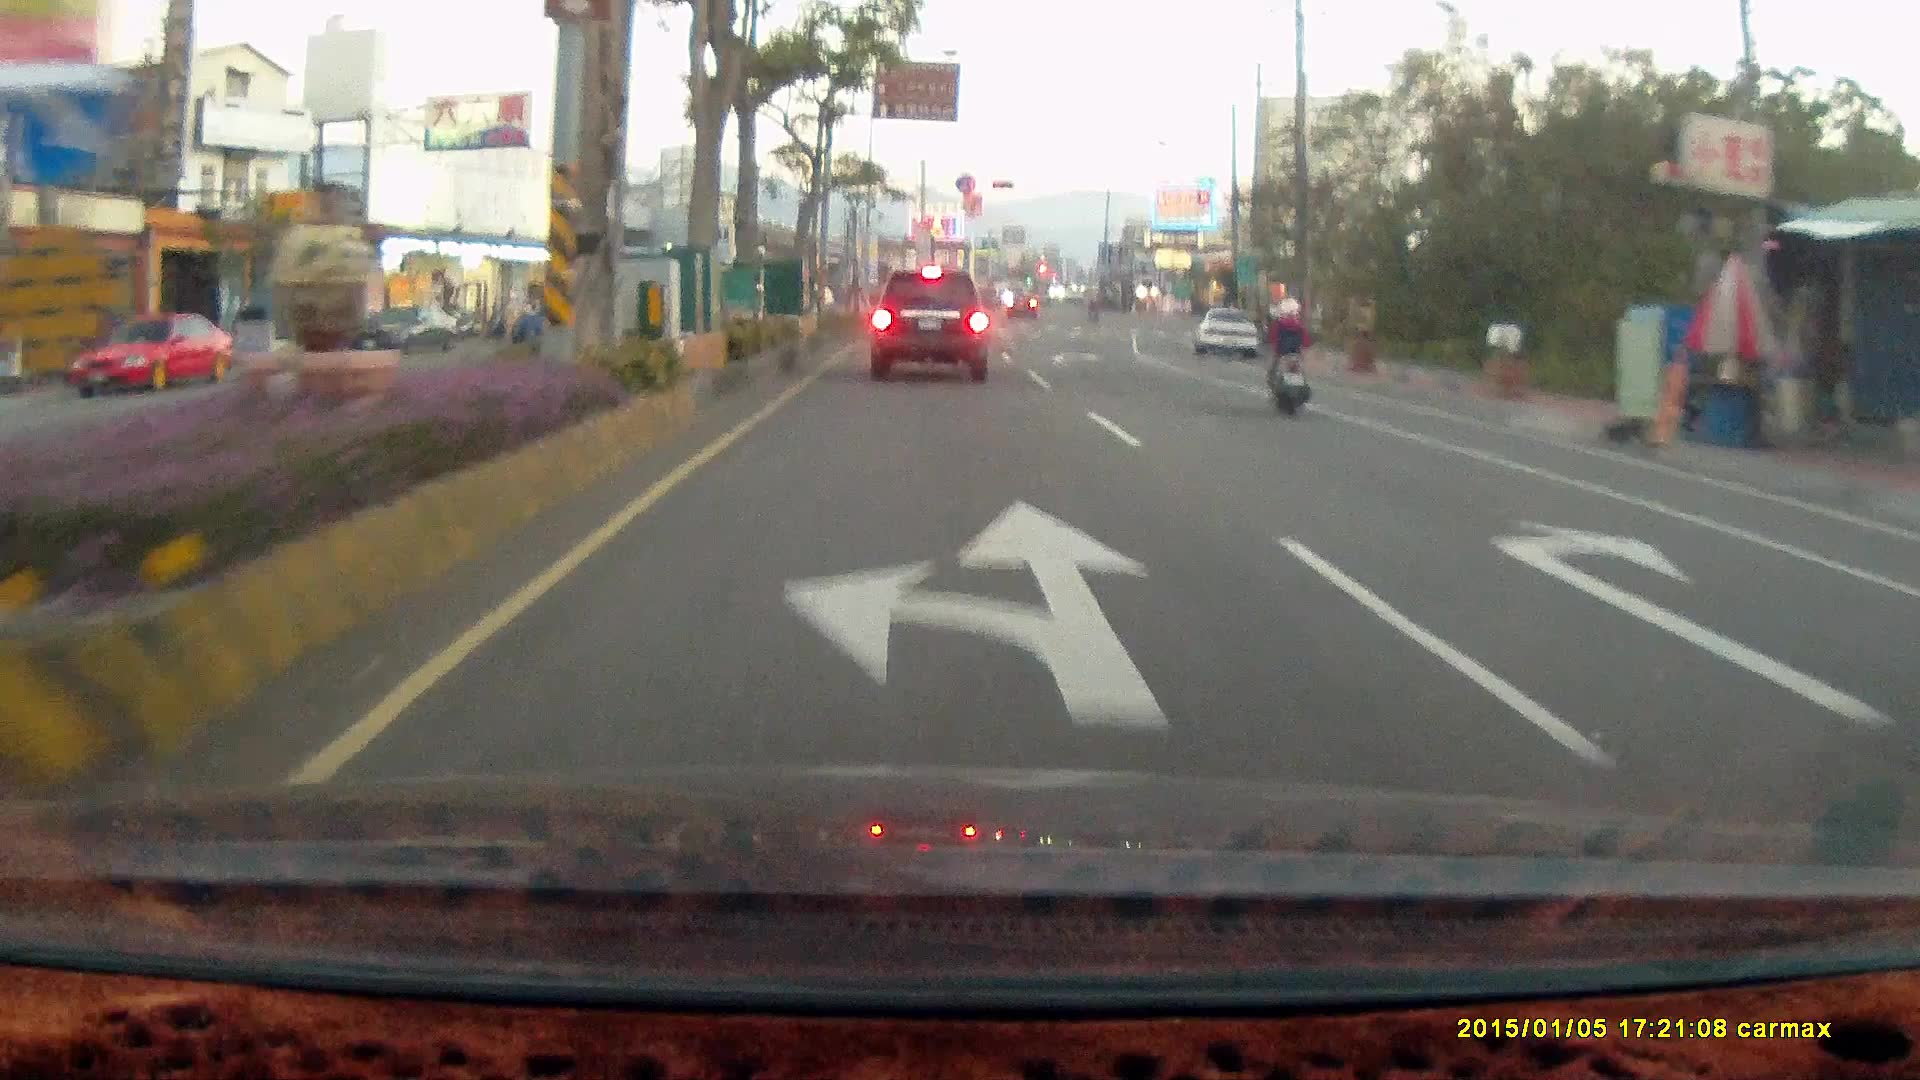rider: (1260, 293, 1314, 420)
vehicle: (870, 267, 986, 383), (76, 310, 231, 396), (1896, 493, 1920, 836), (1883, 528, 1920, 690), (357, 304, 465, 356), (1194, 307, 1261, 362), (1194, 305, 1261, 359)
